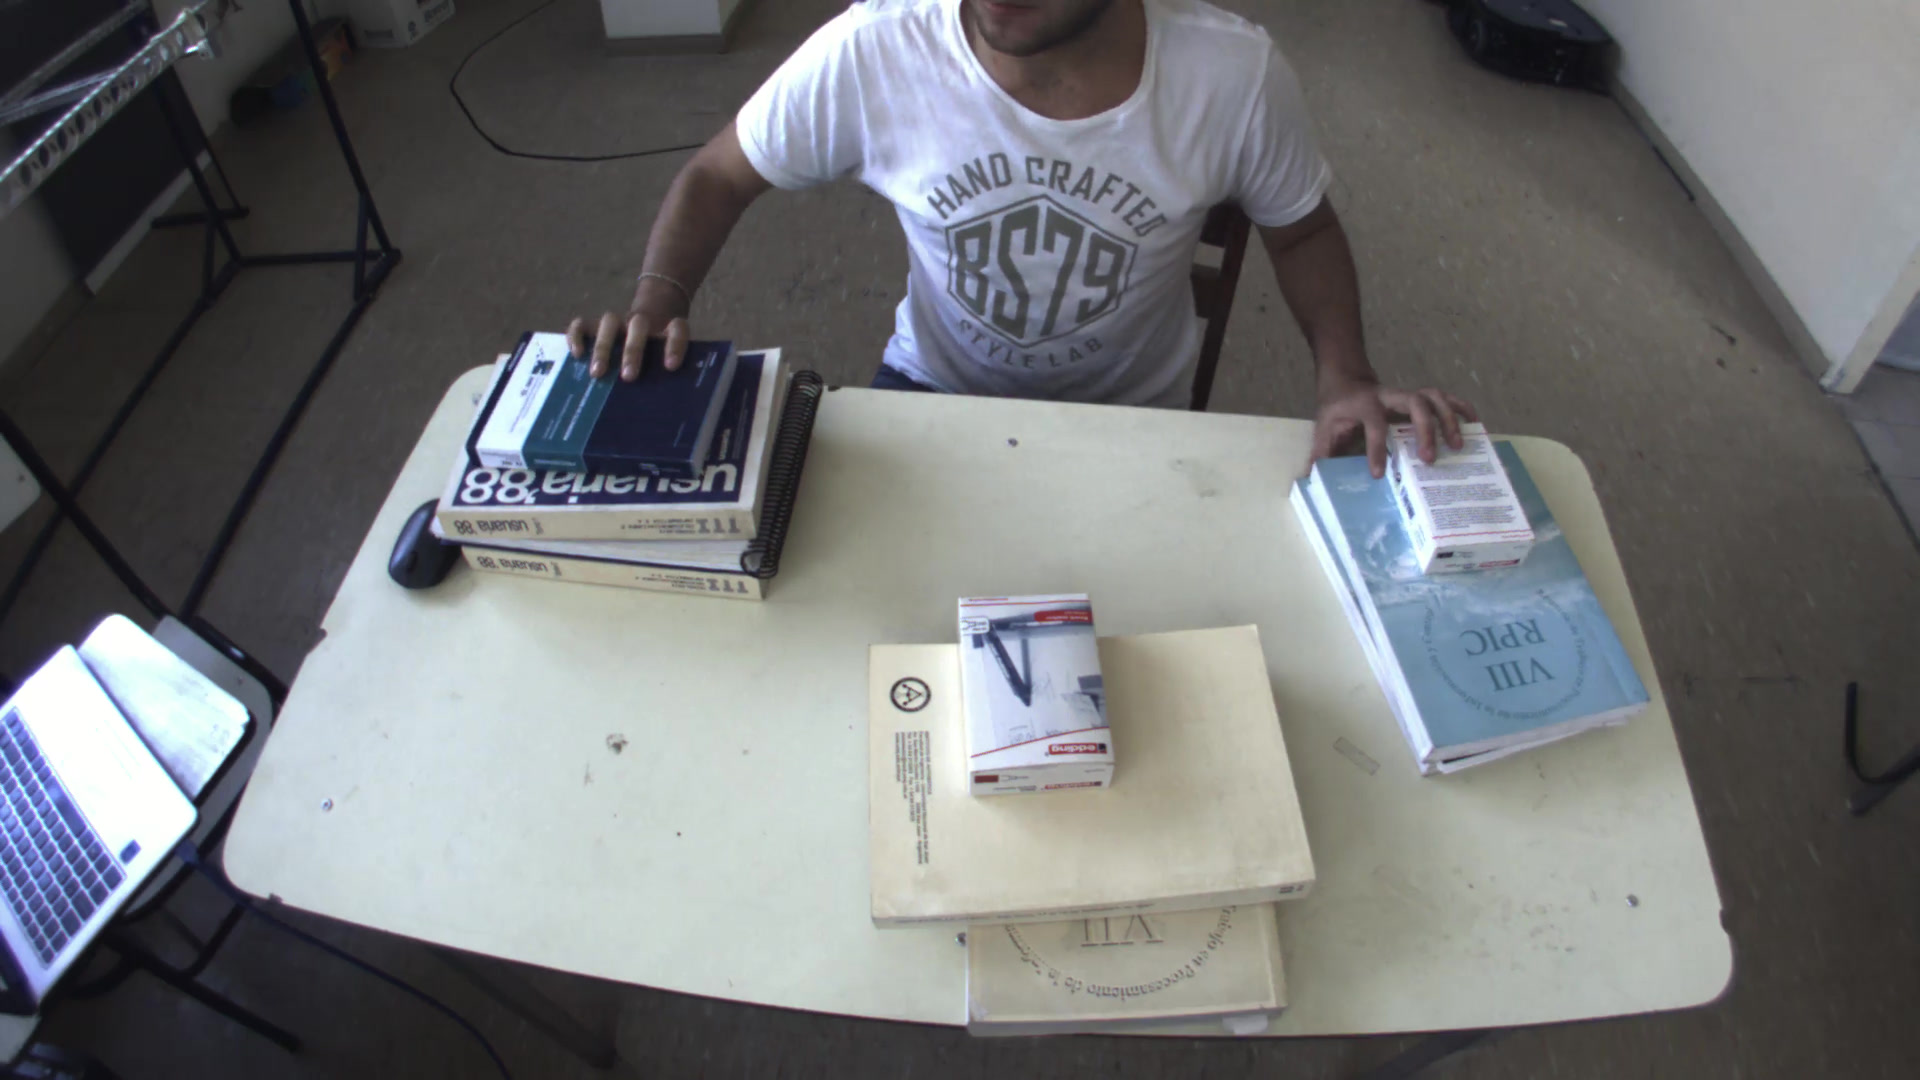hand: (1303, 368, 1490, 472), (555, 270, 704, 378)
